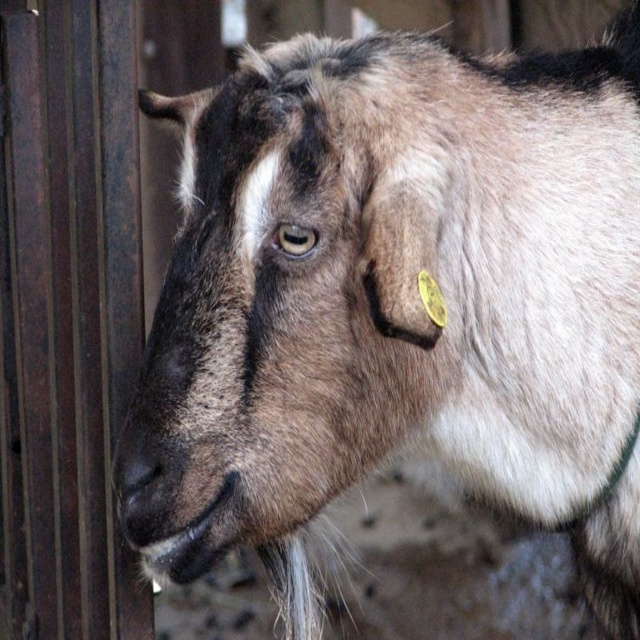Goat: (112, 32, 639, 639)
